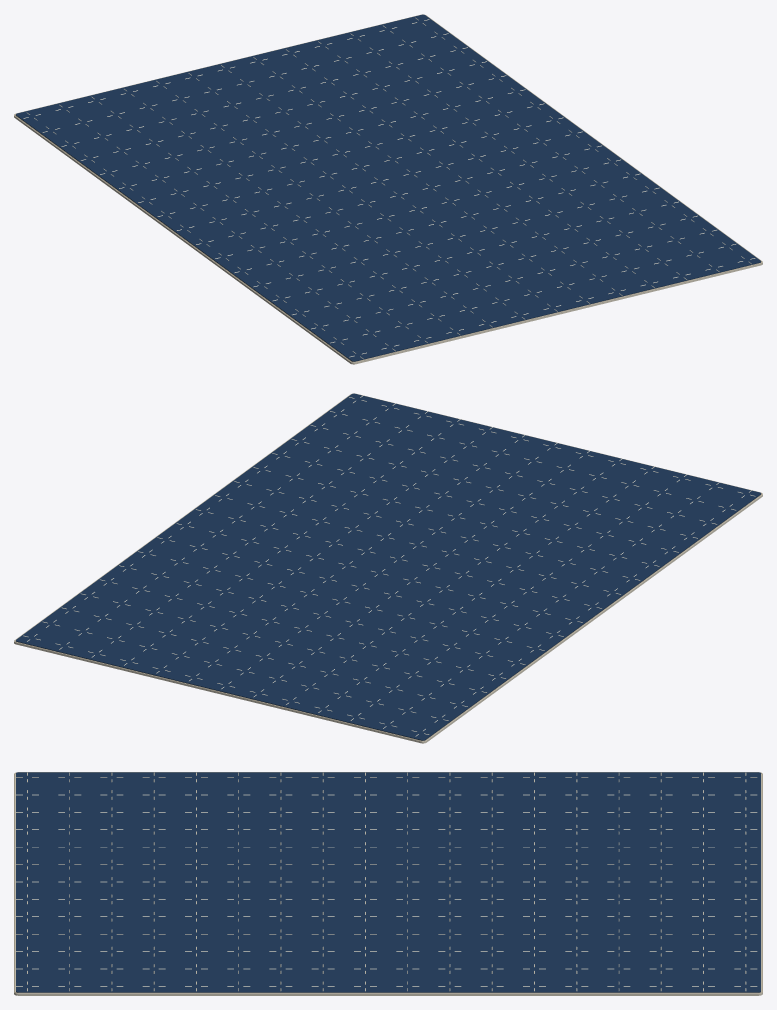
File: designed-rug-sashiko.glb
The picture shows the model from 3 angles, top to bottom: view 1: azimuth 30°, elevation 25°; view 2: azimuth 150°, elevation 25°; view 3: azimuth 270°, elevation 25°; orthographic projection. The views are drawn at different scales.
Visible parts, largest first — view 1: catalog_surface_RealismUV; view 2: catalog_surface_RealismUV; view 3: catalog_surface_RealismUV.
Boxes of the visible parts, bbox=[...] form: catalog_surface_RealismUV: bbox=[14, 14, 762, 364]; catalog_surface_RealismUV: bbox=[14, 393, 762, 743]; catalog_surface_RealismUV: bbox=[14, 772, 762, 995].
Size of the model in its own units: 1.4 by 0.01 by 2.
